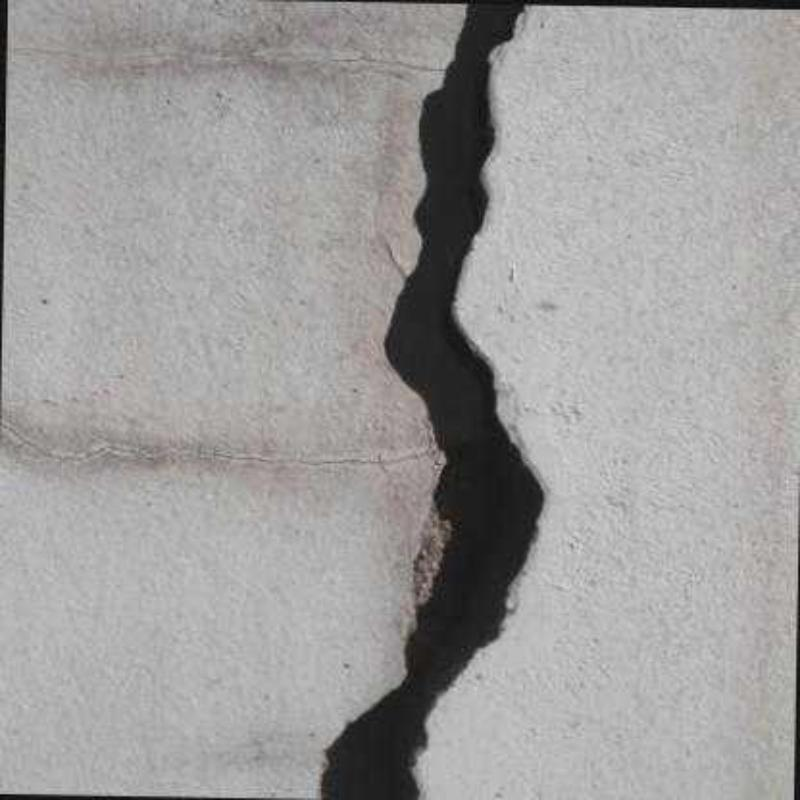pothole: (318, 1, 551, 798), (0, 413, 438, 469), (8, 42, 446, 77), (379, 235, 412, 281)
